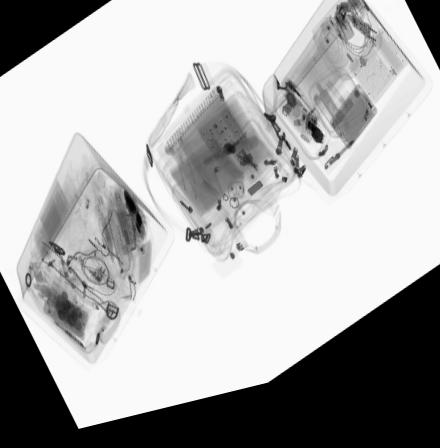Lighter: (212, 167, 231, 187)
